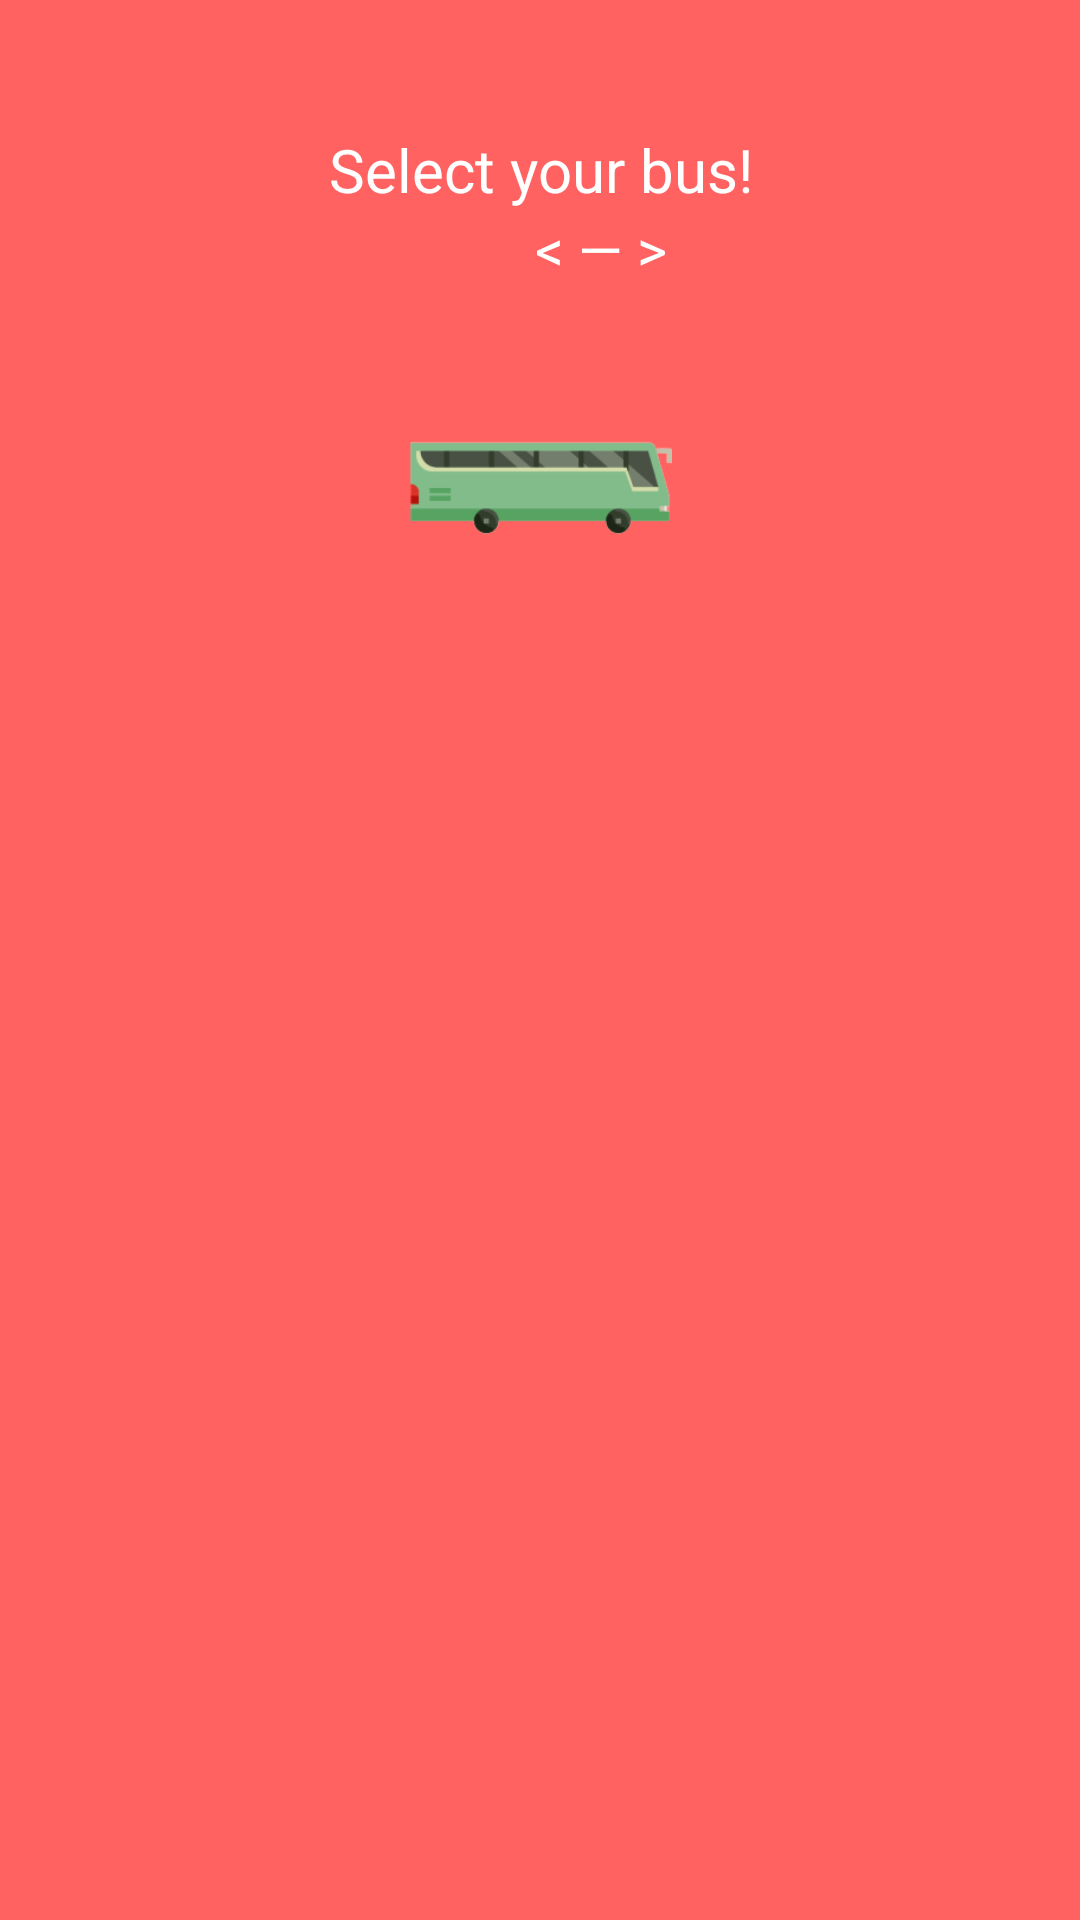

Icons on this 1080*1920 Android screen, each with its box as (left=x1, top=y1, right=x2, bottom=y2):
bus: (left=410, top=442, right=672, bottom=534)
